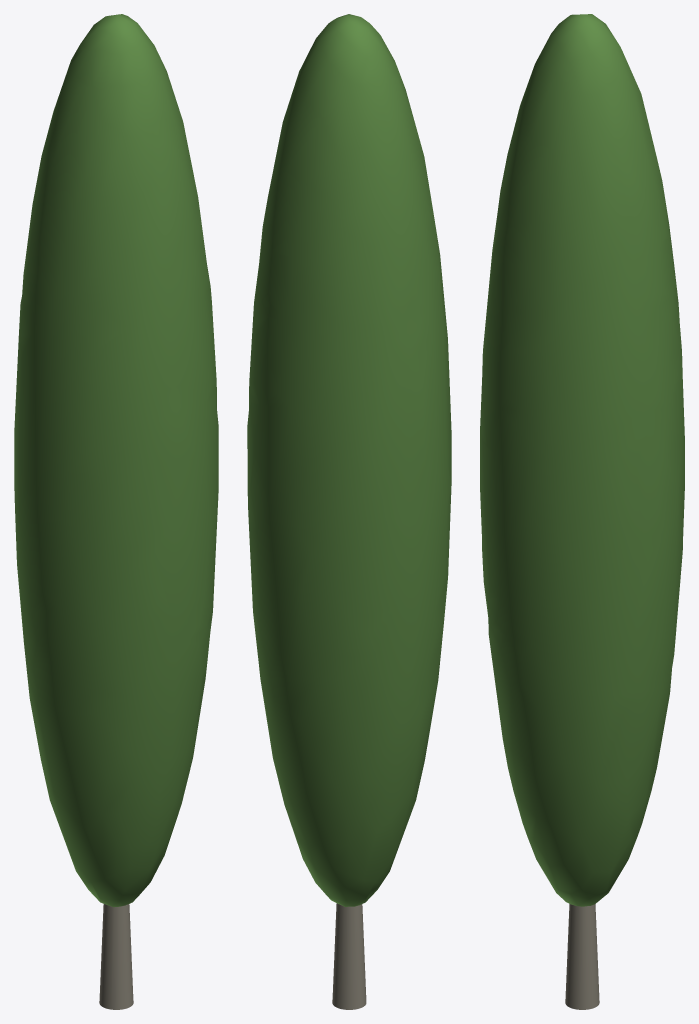
The model's file is e03-lombardy-poplar.lod1.glb.
The picture shows the model from 3 angles, left to right: view 1: azimuth 30°, elevation 25°; view 2: azimuth 150°, elevation 25°; view 3: azimuth 270°, elevation 25°; orthographic projection.
Parts seen in each view (by area): view 1: part1, part0; view 2: part1, part0; view 3: part1, part0.
Boxes of the visible parts, x1,y1,x2,y2 form: part1: [14, 14, 218, 907]; part0: [99, 904, 133, 1009]; part1: [247, 14, 451, 906]; part0: [332, 903, 366, 1009]; part1: [480, 14, 684, 906]; part0: [565, 904, 599, 1009].
Bounding box in the file's own units: 4778 × 25499 × 4790.
